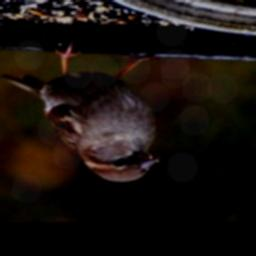Sparrow: (1, 38, 164, 184)
